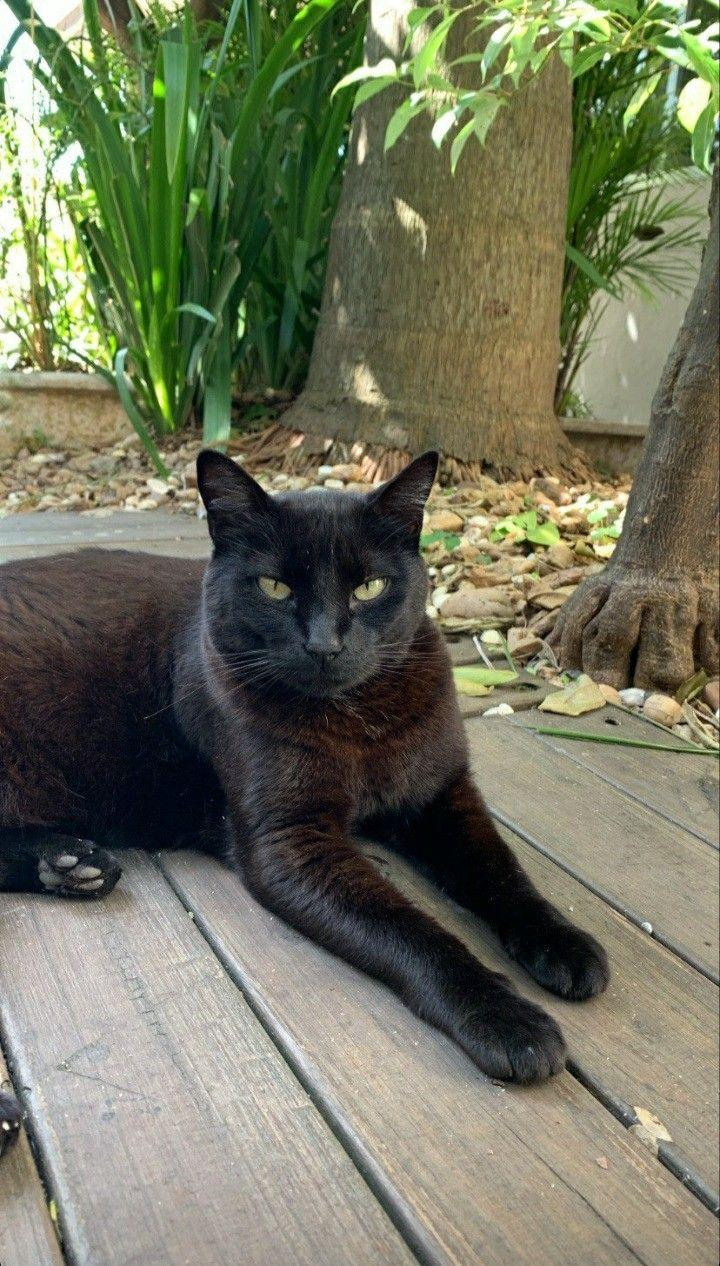kedo: (0, 446, 610, 1085)
